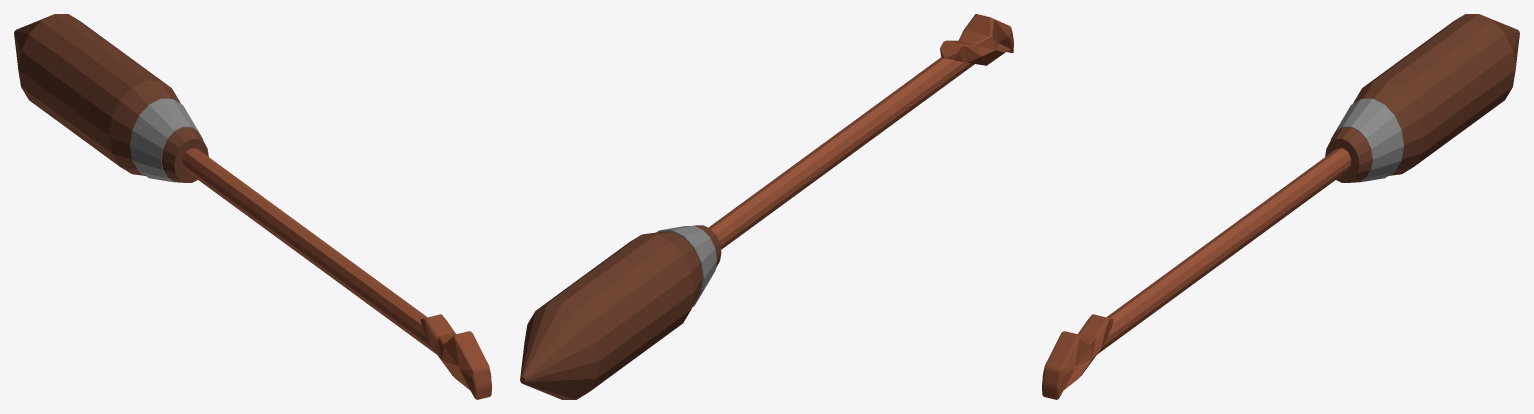
Rendered from brossdur5.obj.
3 renders of one model, left to right at view 1: azimuth 30°, elevation 25°; view 2: azimuth 150°, elevation 25°; view 3: azimuth 330°, elevation 25°, orthographic. The views are drawn at different scales.
Parts seen in each view (by area): view 1: Body; view 2: Body; view 3: Body.
Boxes of the visible parts, <box> form: Body: <box>14,14,491,399</box>; Body: <box>520,14,1013,399</box>; Body: <box>1042,14,1519,399</box>.
Size of the model in its own units: 0.4293 by 0.5255 by 4.75.
